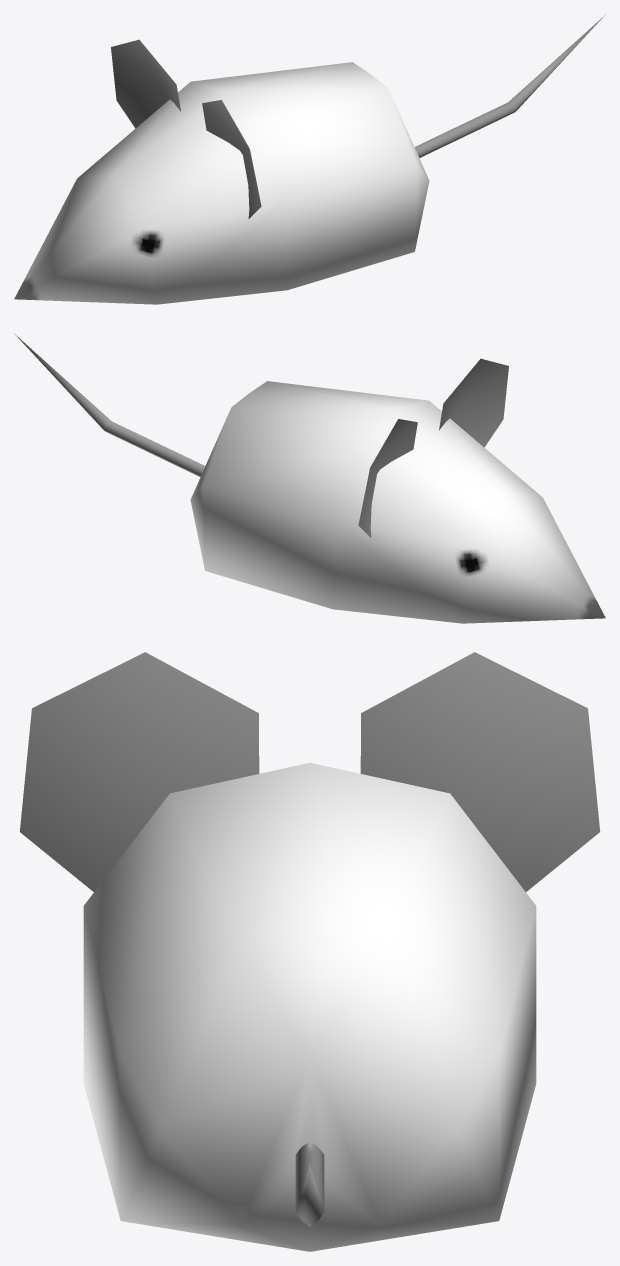
The model's file is mousy.glb.
3 views of the same model, one above another, from view 1: azimuth 30°, elevation 25°; view 2: azimuth 150°, elevation 25°; view 3: azimuth 270°, elevation 25° (orthographic). The views are drawn at different scales.
Parts seen in each view (by area): view 1: Mousy; view 2: Mousy; view 3: Mousy.
Part boxes in pixels (<box>): Mousy: <box>14,14,605,304</box>; Mousy: <box>14,333,605,623</box>; Mousy: <box>19,652,600,1251</box>.
Size of the model in its own units: 4.53 by 1.42 by 1.92.
Materials: 1 (1 with a texture image).
